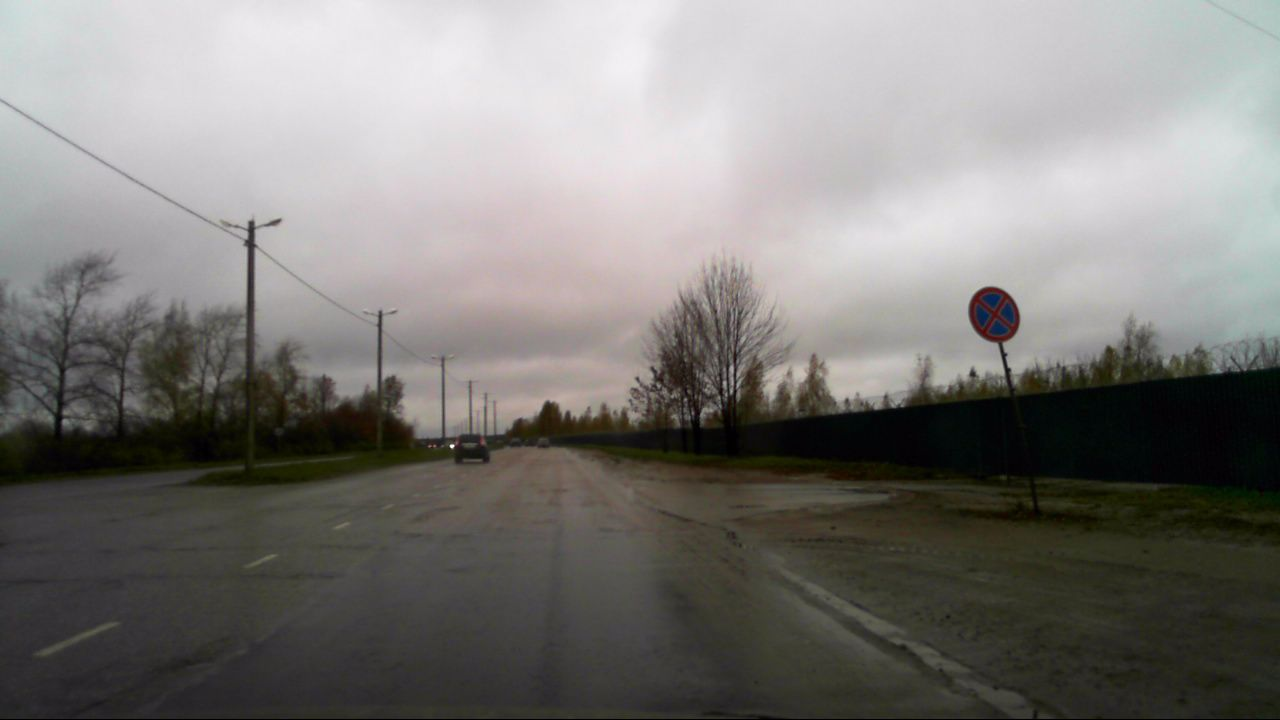No Parking: (967, 284, 1022, 343)
